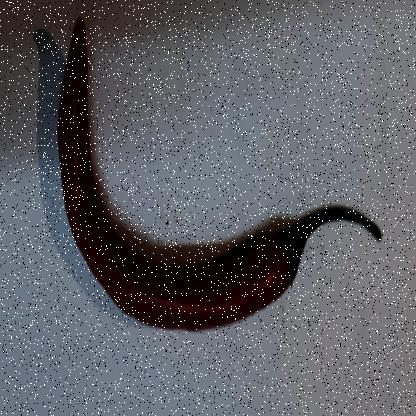chili: (56, 17, 380, 330)
